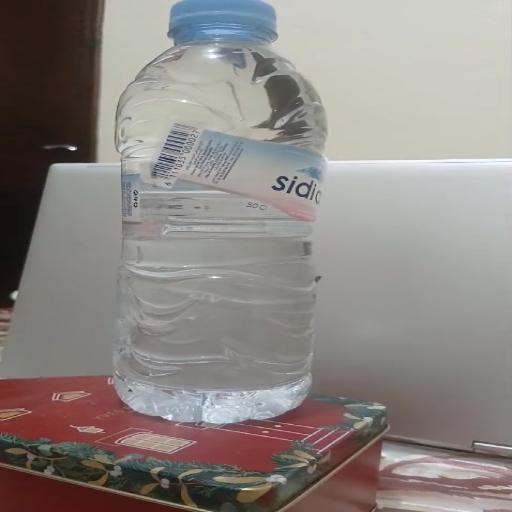bouteille conformite: (116, 6, 342, 422)
